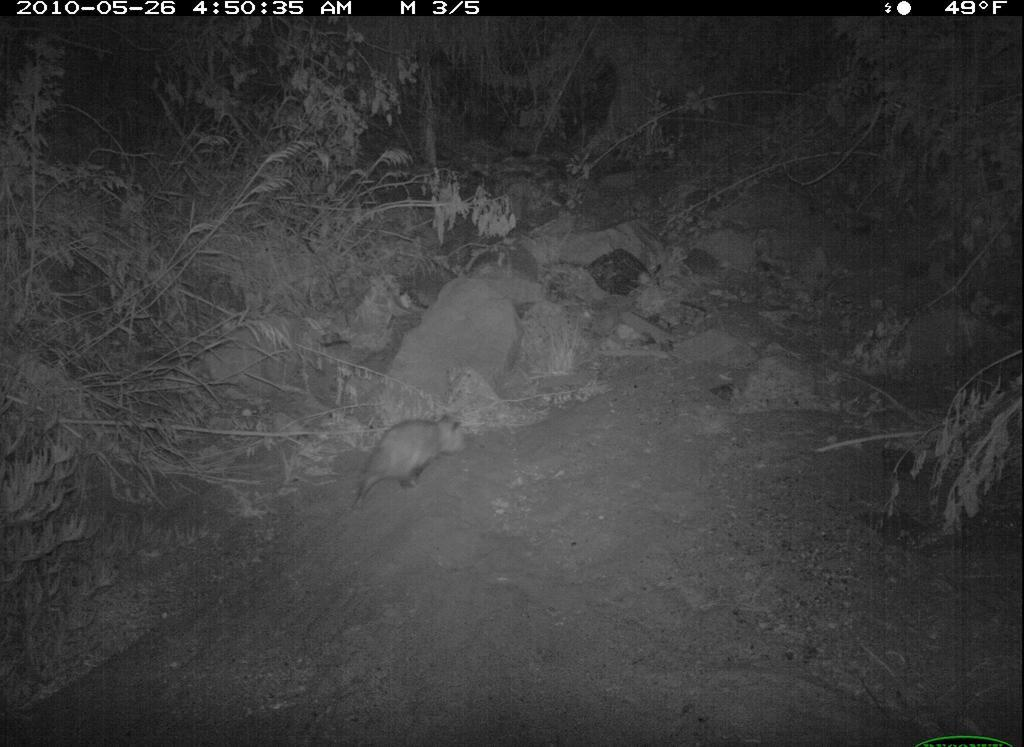opossum: (340, 405, 484, 515)
